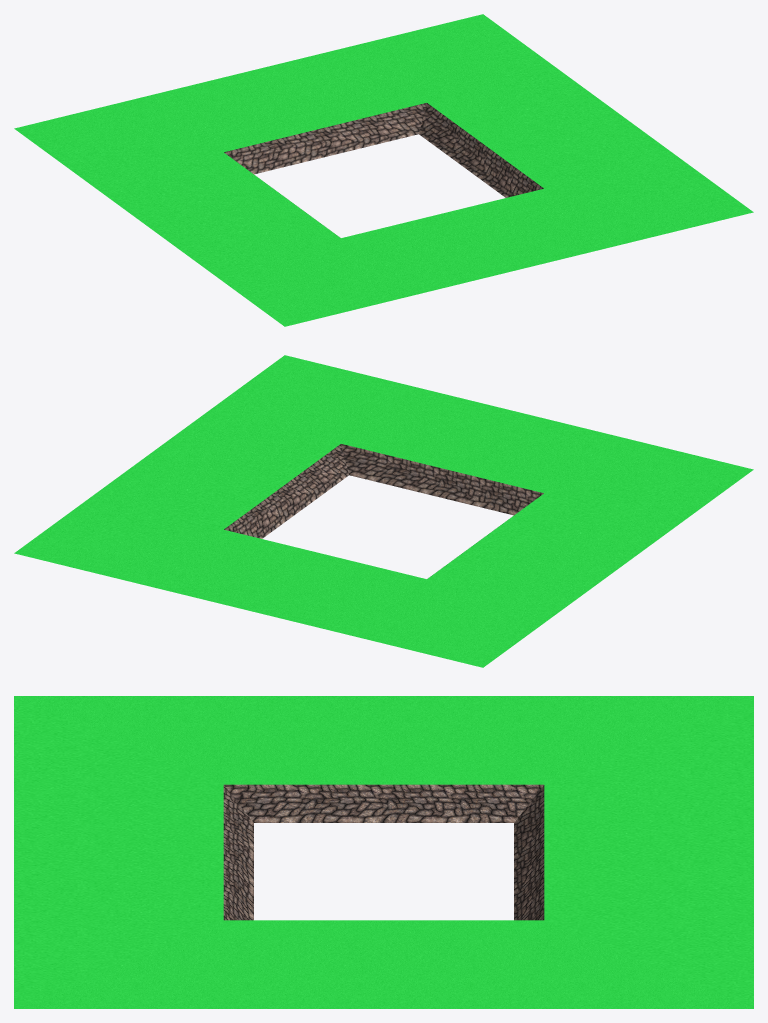
The model's file is playfield.fbx.
3 views of the same model, one above another, from view 1: azimuth 30°, elevation 25°; view 2: azimuth 150°, elevation 25°; view 3: azimuth 270°, elevation 25° (orthographic). The views are drawn at different scales.
Visible parts, largest first — view 1: playfield; view 2: playfield; view 3: playfield.
Boxes of the visible parts, x1=… form: playfield: x1=14, y1=14, x2=753, y2=326; playfield: x1=14, y1=355, x2=753, y2=667; playfield: x1=14, y1=696, x2=753, y2=1008.
Bounding box in the file's own units: 96.78 × 3.69 × 96.78.
2 materials, 2 textured.
